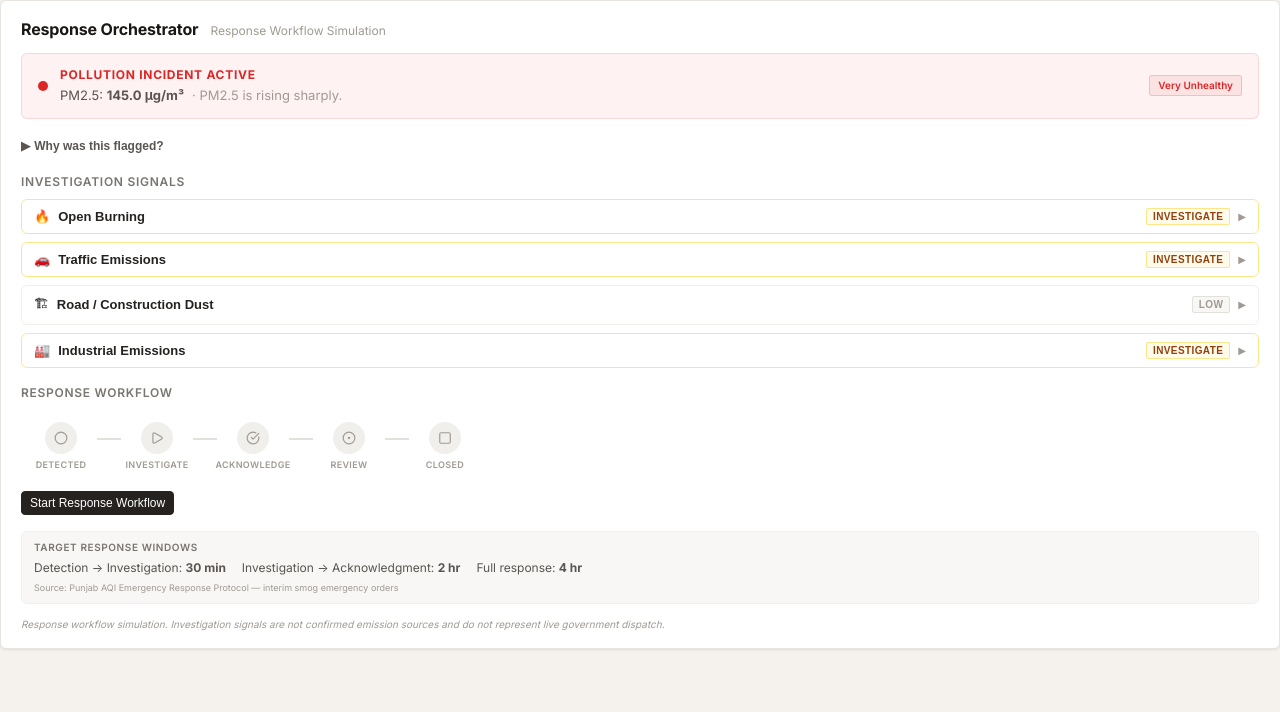
Test: ResponseOrchestrator › evidence drawer › toggles domain-specific evidence drawers
Open Open Burning domain
Click the button "🔥 Open Burning INVESTIGATE ▶": (102, 216) [22, 200, 1258, 232]
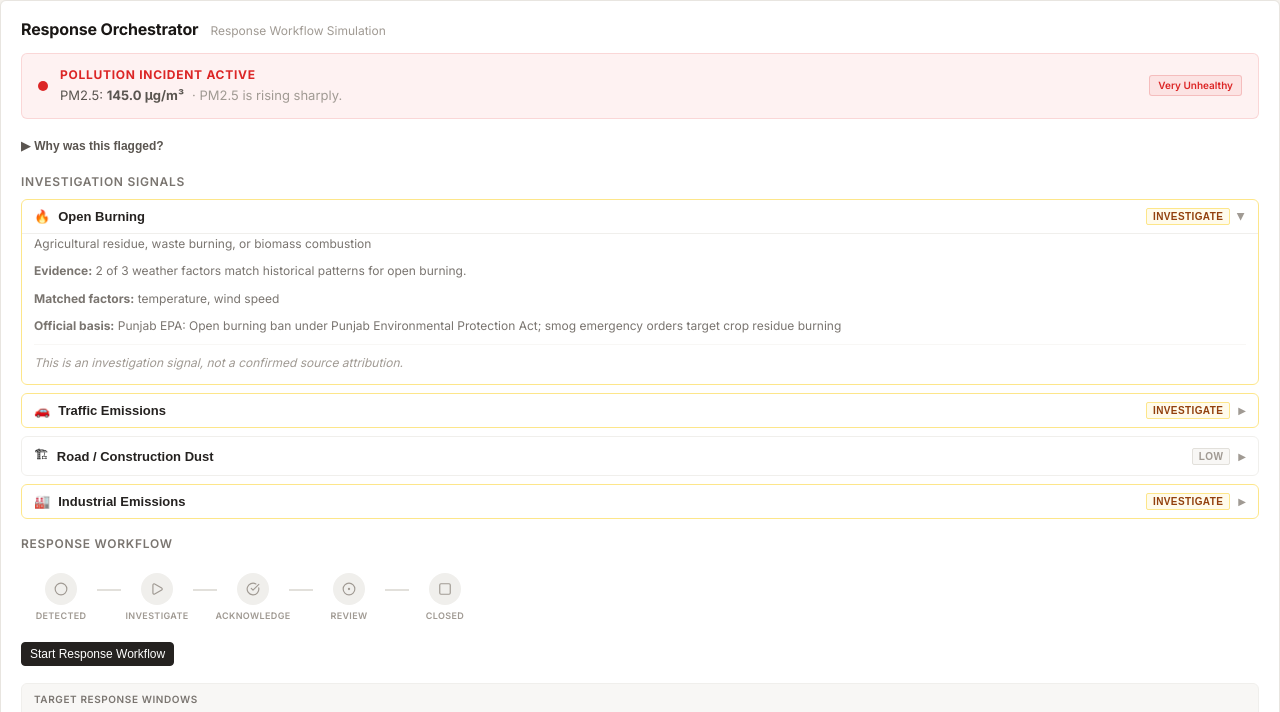
Expected: the text "Evidence:" is shown, [34, 263, 92, 278]
Expected: the text "Official basis:" is shown, [34, 318, 114, 333]
Expected: the text "Punjab EPA" is shown, [118, 318, 841, 333]
